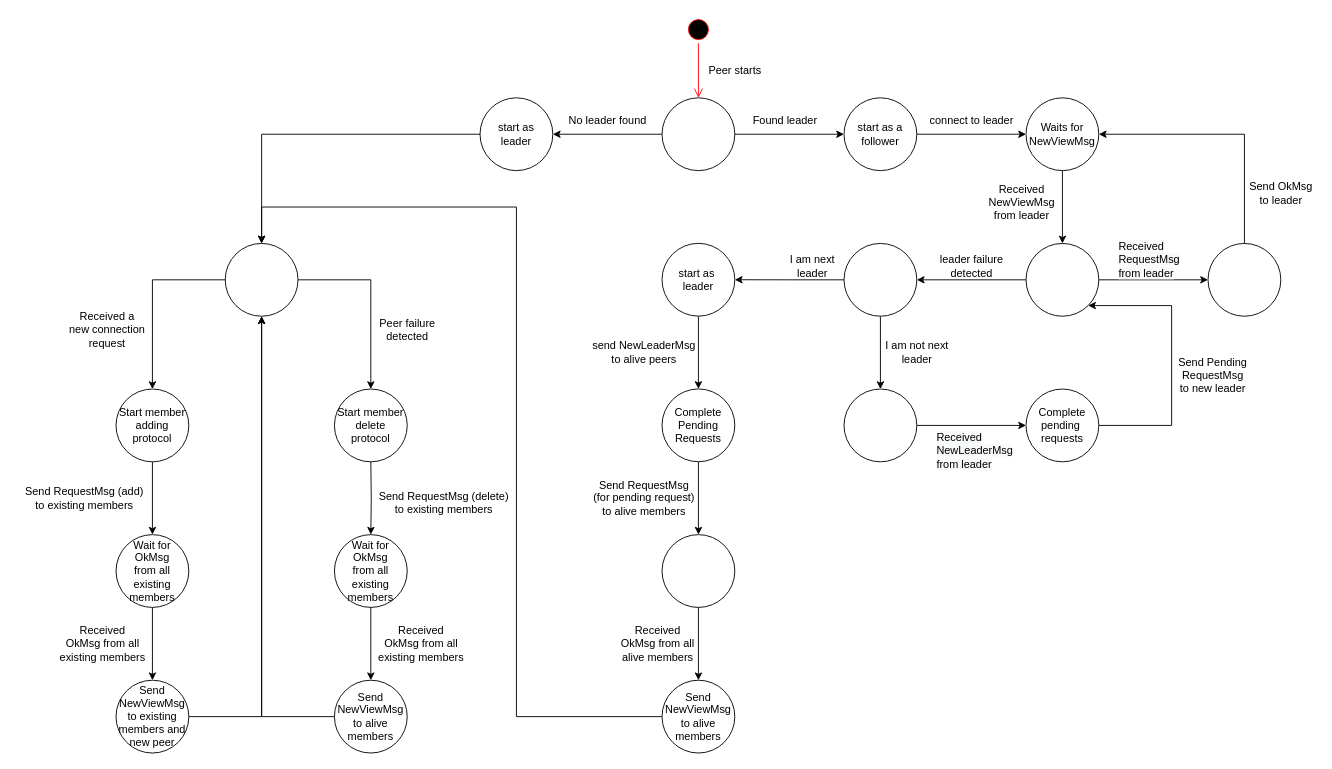
This 1332x769 diagram has some shape labels left out. The shapes that lost their labels are listed below. From the top down, each one's centre as x and y in pixels, then its label:
At (698,134): "Joining".
At (261,279): "Waiting for new conn or peer failure".
At (880,279): "Leader candidate selection".
At (1062,279): "Waits for messages from leader".
At (1244,279): "Save RequestMsg".
At (880,425): "Waiting for NewLeaderMsg".
At (698,570): "Wait for OkMsg from all alive members".
